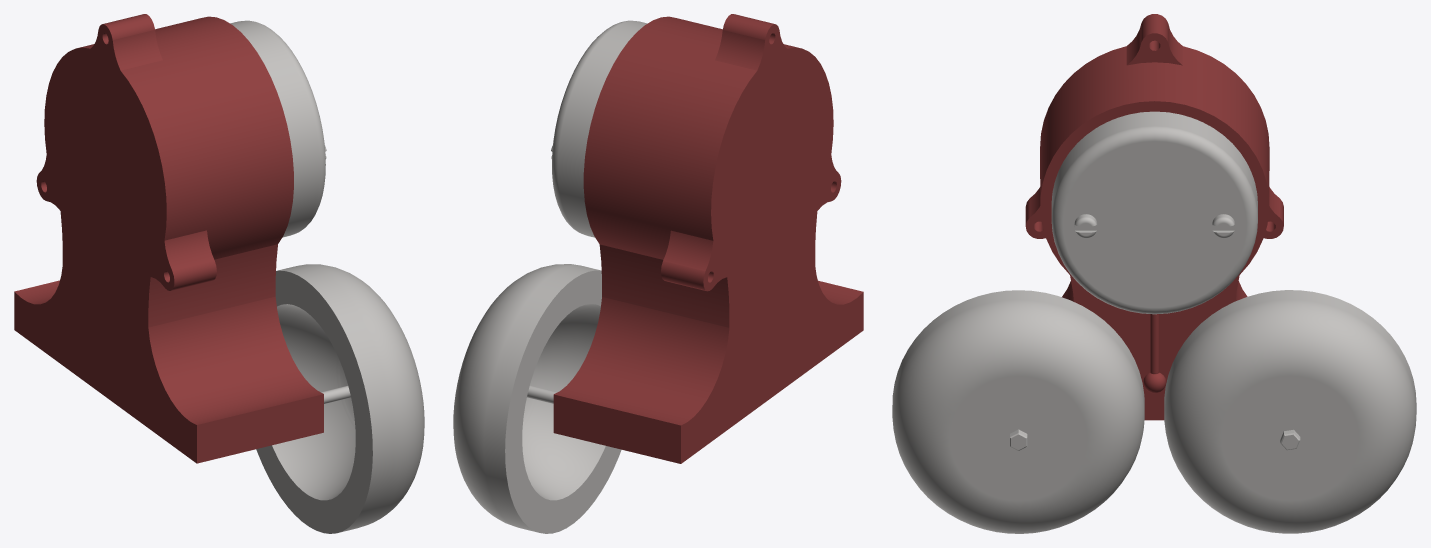
Rendered from campainha3.glb.
The picture shows the model from 3 angles, left to right: view 1: azimuth 30°, elevation 25°; view 2: azimuth 150°, elevation 25°; view 3: azimuth 270°, elevation 25°; orthographic projection. The views are drawn at different scales.
Parts seen in each view (by area): view 1: Sólido1 (×3); view 2: Sólido1 (×3); view 3: Sólido1 (×4).
Part boxes in pixels (x1,y1,x2,y2): Sólido1 (×3): (14,14,424,533); Sólido1 (×3): (453,14,863,533); Sólido1 (×4): (892,14,1416,533).
Size of the model in its own units: 0.099 by 0.2147 by 0.2284.
